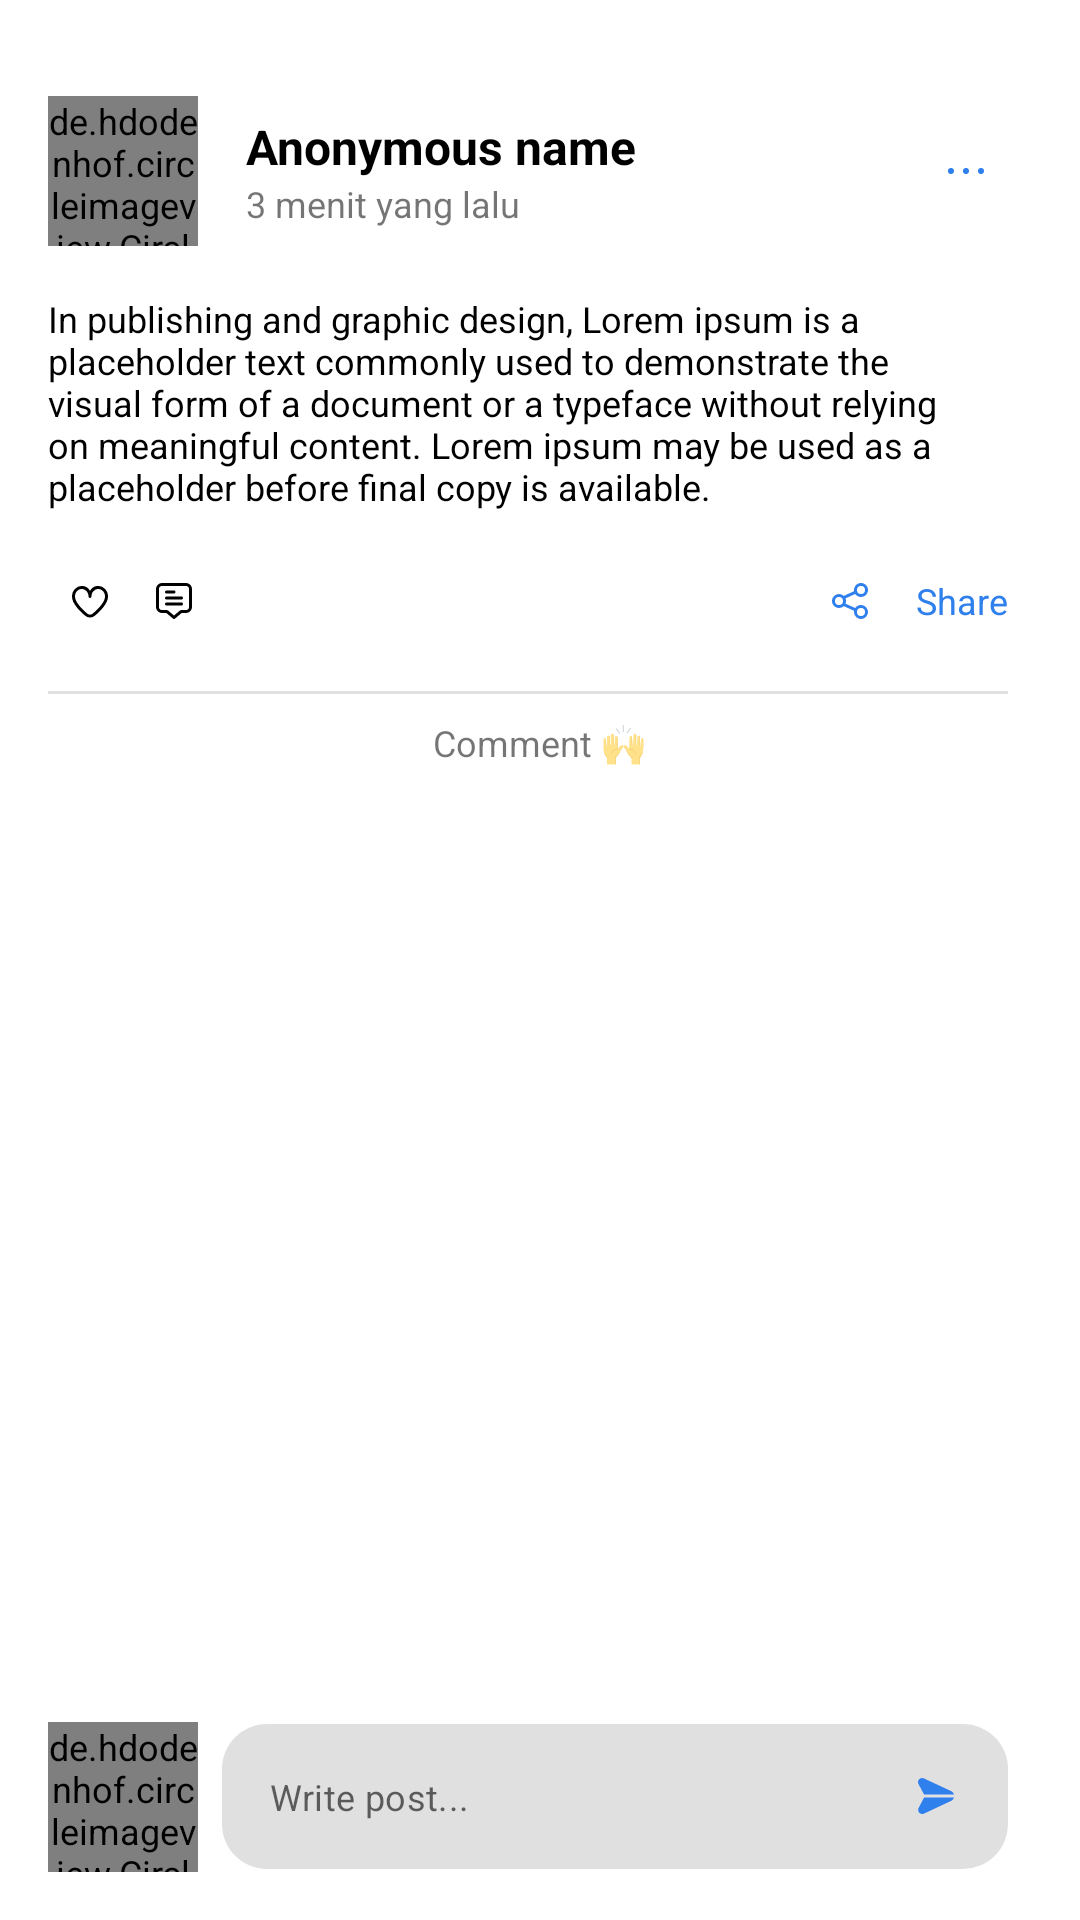

Icons on this 1080px×1920px Android screen, each with its box as bbox=(x1, y1, x2, y2):
comment: bbox=(156, 583, 192, 619)
dots: bbox=(948, 168, 984, 174)
heart: bbox=(72, 586, 108, 618)
